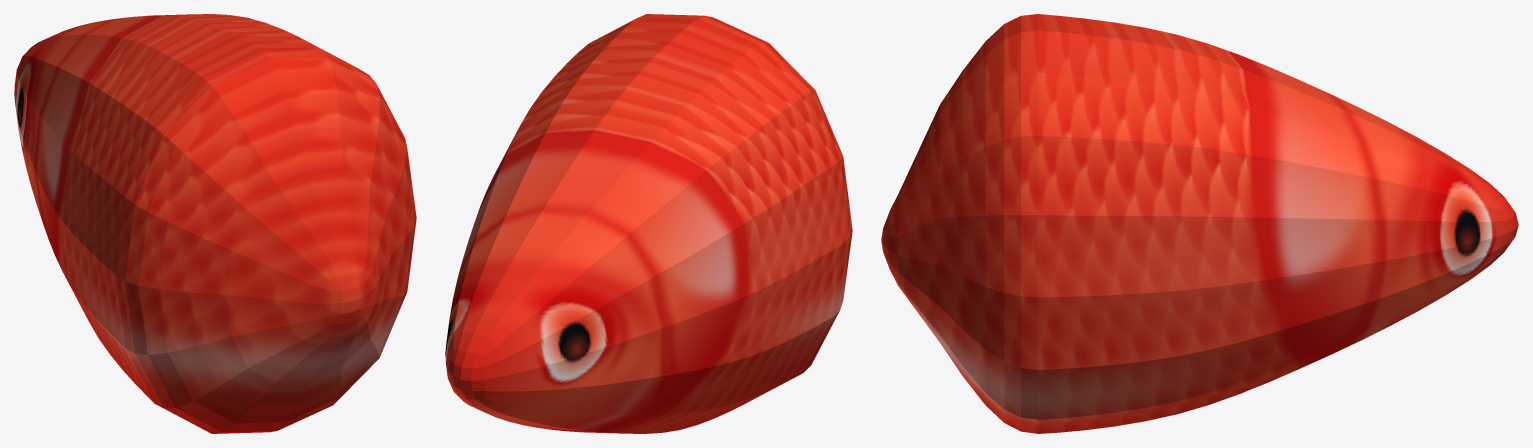
The model's file is Fish2_1_new11.dae.
3 renders of one model, left to right at view 1: azimuth 30°, elevation 25°; view 2: azimuth 150°, elevation 25°; view 3: azimuth 270°, elevation 25°, orthographic. The views are drawn at different scales.
Parts seen in each view (by area): view 1: Cube_014; view 2: Cube_014; view 3: Cube_014.
Boxes of the visible parts, left/top/right/bottom form: Cube_014: left=14, top=14, right=416, bottom=433; Cube_014: left=445, top=14, right=852, bottom=433; Cube_014: left=881, top=14, right=1518, bottom=433.
Size of the model in its own units: 1.52 by 2.79 by 1.87.
Materials: 1 (1 with a texture image).
